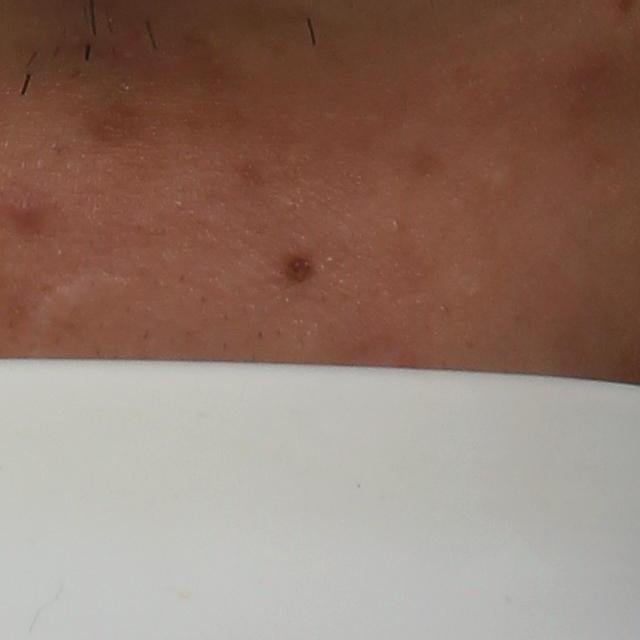hypertrophic_scar: (27, 268, 129, 351)
nevus: (282, 250, 319, 290)
